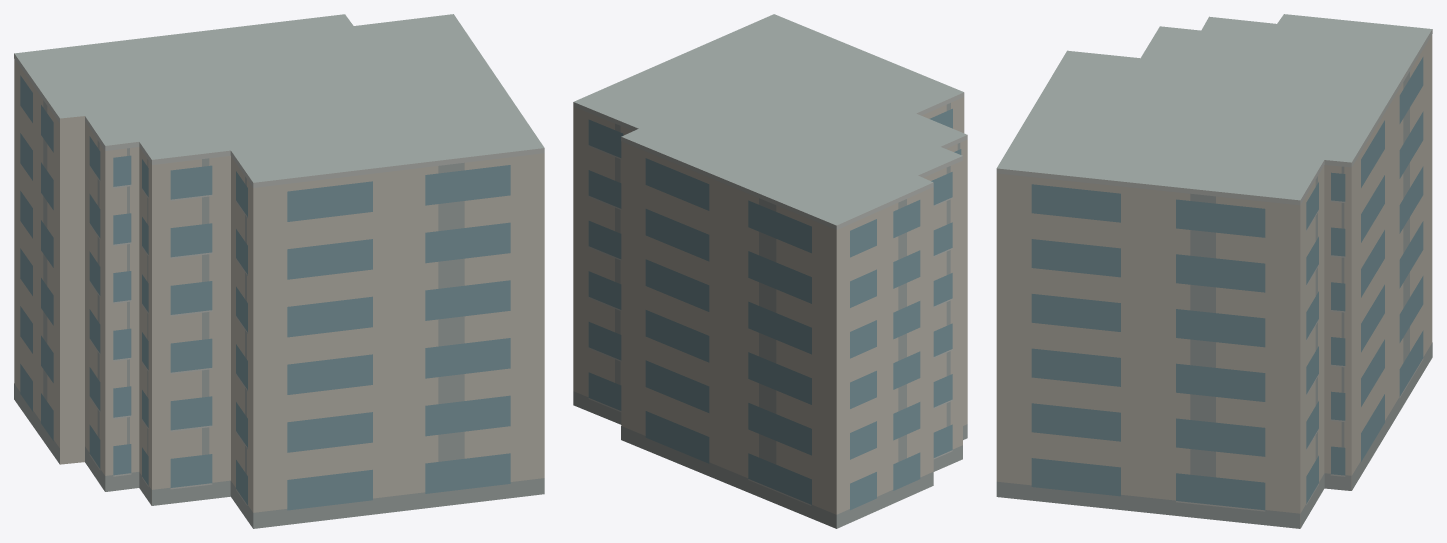
The model's file is survey-upis-32981787.glb.
3 views of the same model, side by side, from view 1: azimuth 30°, elevation 25°; view 2: azimuth 150°, elevation 25°; view 3: azimuth 270°, elevation 25° (orthographic). The views are drawn at different scales.
Visible parts, largest first — view 1: survey-upis-32981787.tmp; view 2: survey-upis-32981787.tmp; view 3: survey-upis-32981787.tmp.
Part boxes in pixels (box(x1,y1,x2,y2)): survey-upis-32981787.tmp: box(14, 14, 544, 528); survey-upis-32981787.tmp: box(573, 14, 967, 528); survey-upis-32981787.tmp: box(996, 14, 1432, 528).
Size of the model in its own units: 19.84 by 16.3 by 19.61.
